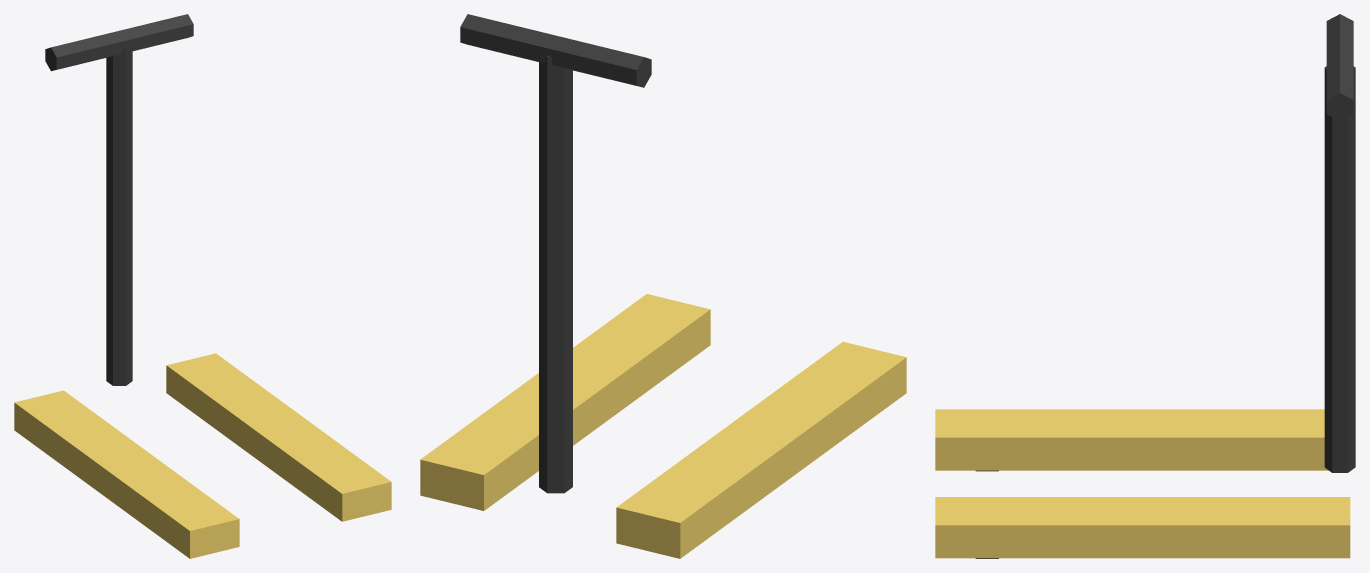
The picture shows the model from 3 angles, left to right: view 1: azimuth 30°, elevation 25°; view 2: azimuth 150°, elevation 25°; view 3: azimuth 270°, elevation 25°; orthographic projection. The views are drawn at different scales.
Parts seen in each view (by area): view 1: Fork, Fork.001, Handle, Grip; view 2: Fork, Fork.001, Handle, Grip; view 3: Fork.001, Fork, Handle, Grip.
Boxes of the visible parts, x1,y1,x2,y2 form: Fork: (14,390,239,558); Fork.001: (166,353,391,521); Handle: (106,46,132,385); Grip: (45,14,193,71); Fork: (616,341,906,558); Fork.001: (420,294,710,510); Handle: (539,55,572,493); Grip: (460,14,651,87); Fork.001: (935,497,1350,558); Fork: (935,409,1328,470); Handle: (1324,66,1355,472); Grip: (1326,14,1353,120).
Bounding box in the file's own units: 0.53 × 0.98 × 0.81.
Materials: 1 (1 with a texture image).
